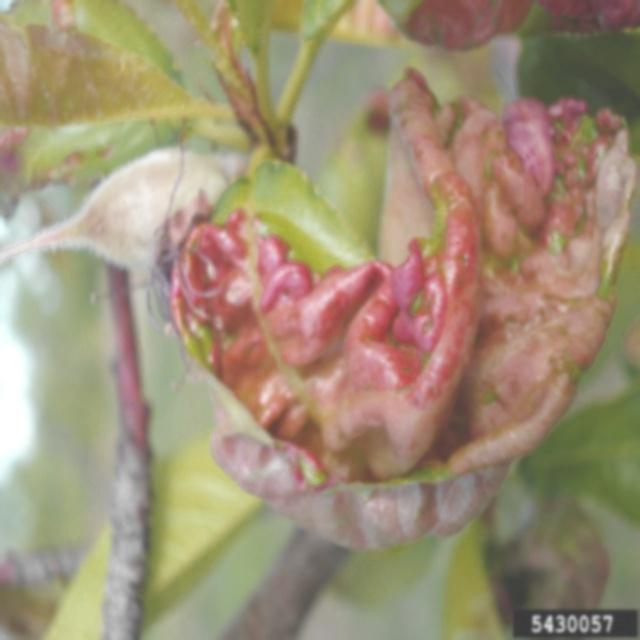leaf_curl: (160, 81, 640, 582)
